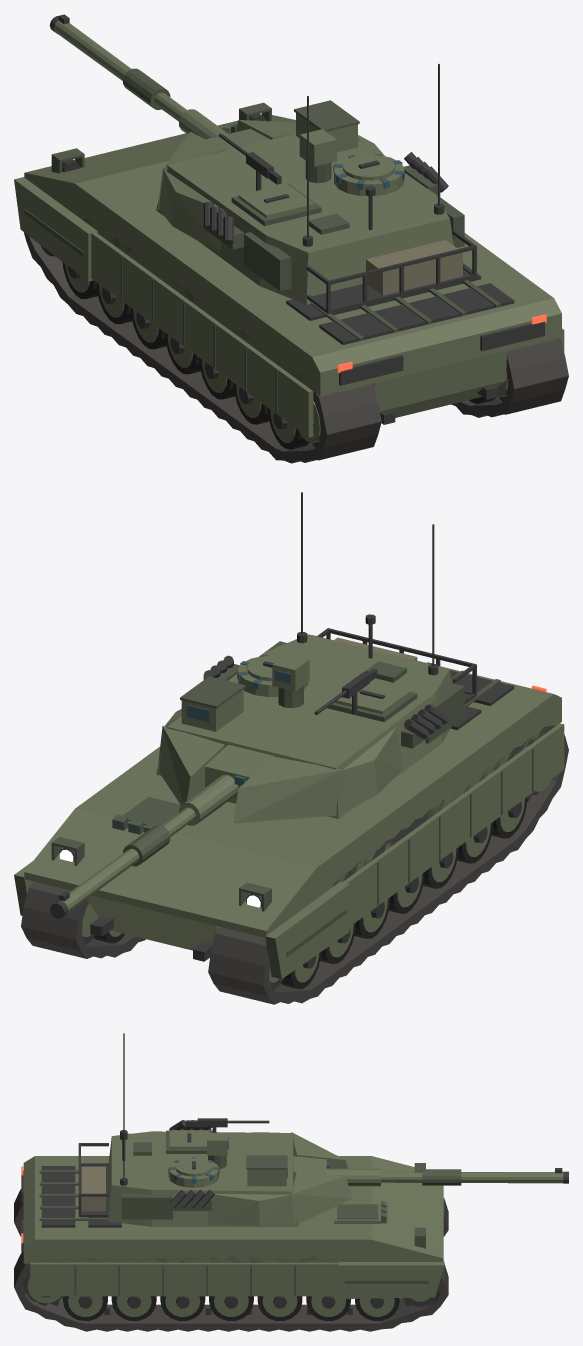
The model's file is leopard.glb.
The picture shows the model from 3 angles, top to bottom: view 1: azimuth 30°, elevation 25°; view 2: azimuth 150°, elevation 25°; view 3: azimuth 270°, elevation 25°; orthographic projection. The views are drawn at different scales.
Visible parts, largest first — view 1: Hull, Turret, SideSkirt_L, Track_L, StowageBasket, Track_R, SkirtArmor_L, GunBarrel, Sight_Gunner, Hatch_Loader, Sight_PERI, Cupola_Commander (+14 smaller); view 2: Hull, Turret, Track_L, SideSkirt_L, GunBarrel, SkirtArmor_L, Track_R, Sight_Gunner, GunMantlet, Sight_PERI, StowageBasket, Hatch_Loader (+14 smaller); view 3: Hull, Turret, SideSkirt_R, Track_R, SkirtArmor_R, GunBarrel, StowageBasket, Sight_Gunner, RoadWheel_R2, RoadWheel_R3, RoadWheel_R5, RoadWheel_R1 (+13 smaller).
Boxes of the visible parts, <box> form: Hull: <box>24,115,561,424</box>; Turret: <box>156,120,464,304</box>; SideSkirt_L: <box>91,232,313,437</box>; Track_L: <box>24,213,381,463</box>; StowageBasket: <box>306,230,476,313</box>; Track_R: <box>451,338,568,417</box>; SkirtArmor_L: <box>14,177,97,281</box>; GunBarrel: <box>49,14,228,139</box>; Sight_Gunner: <box>294,100,359,152</box>; Hatch_Loader: <box>238,183,314,218</box>; Sight_PERI: <box>299,129,336,183</box>; Cupola_Commander: <box>333,153,404,196</box>; Hull: <box>24,635,561,961</box>; Turret: <box>156,614,464,823</box>; Track_L: <box>208,725,568,1004</box>; SideSkirt_L: <box>342,723,564,926</box>; GunBarrel: <box>49,775,238,918</box>; SkirtArmor_L: <box>265,882,349,978</box>; Track_R: <box>21,881,145,958</box>; Sight_Gunner: <box>180,676,245,731</box>; GunMantlet: <box>205,745,273,803</box>; Sight_PERI: <box>272,654,309,708</box>; StowageBasket: <box>317,628,476,704</box>; Hatch_Loader: <box>334,681,410,714</box>; Hull: <box>21,1156,443,1263</box>; Turret: <box>108,1130,352,1226</box>; SideSkirt_R: <box>30,1262,338,1296</box>; Track_R: <box>14,1252,448,1331</box>; SkirtArmor_R: <box>339,1261,444,1298</box>; GunBarrel: <box>326,1168,568,1186</box>; StowageBasket: <box>78,1143,108,1217</box>; Sight_Gunner: <box>246,1155,287,1186</box>; RoadWheel_R2: <box>111,1296,156,1320</box>; RoadWheel_R3: <box>160,1296,205,1320</box>; RoadWheel_R5: <box>257,1296,302,1320</box>; RoadWheel_R1: <box>63,1296,107,1320</box>.
Size of the model in its own units: 2.31 by 2.77 by 5.93.
